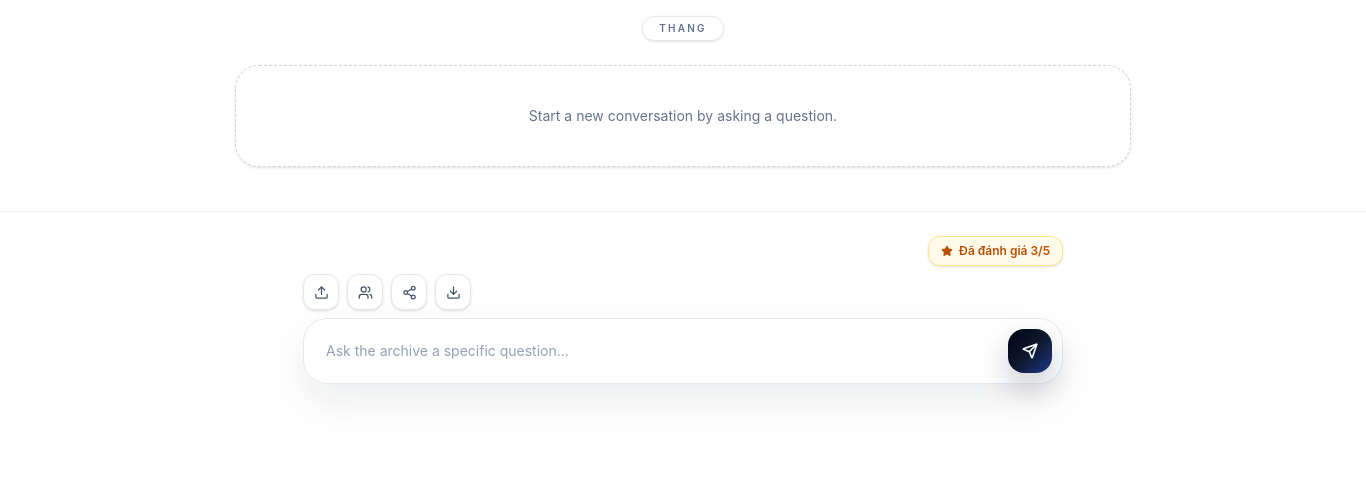
Scenario: ChatPanel conversation evaluation › lets the user reopen and update an existing evaluation
Click the button "Đã đánh giá 3/5" at (995, 251), box [928,236,1063,266]
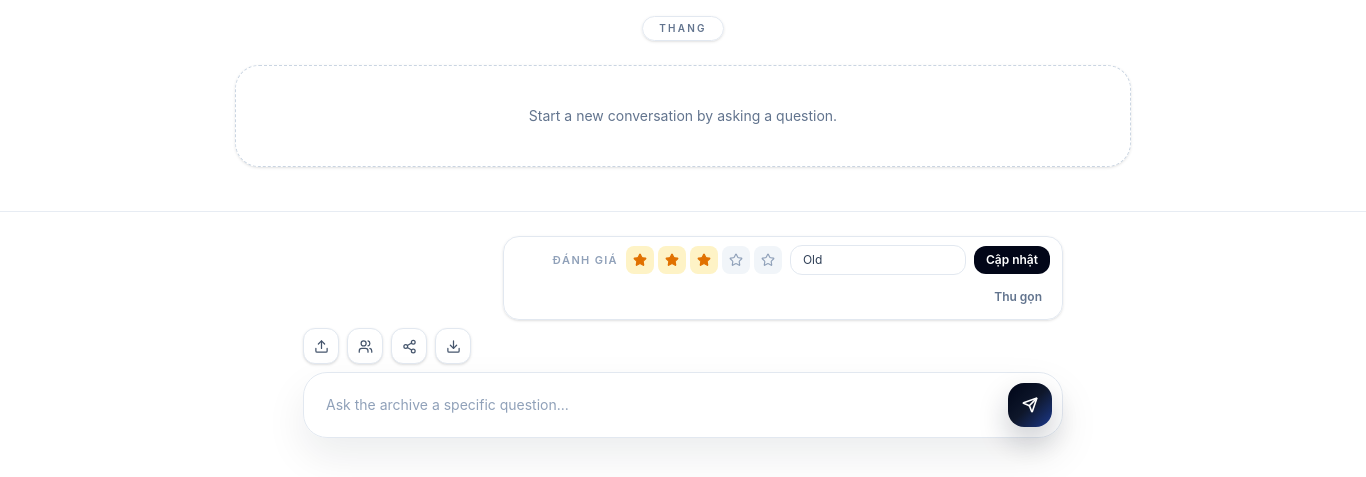
Click the button named "Đánh giá 4 sao" at (736, 260), box [722,246,750,274]
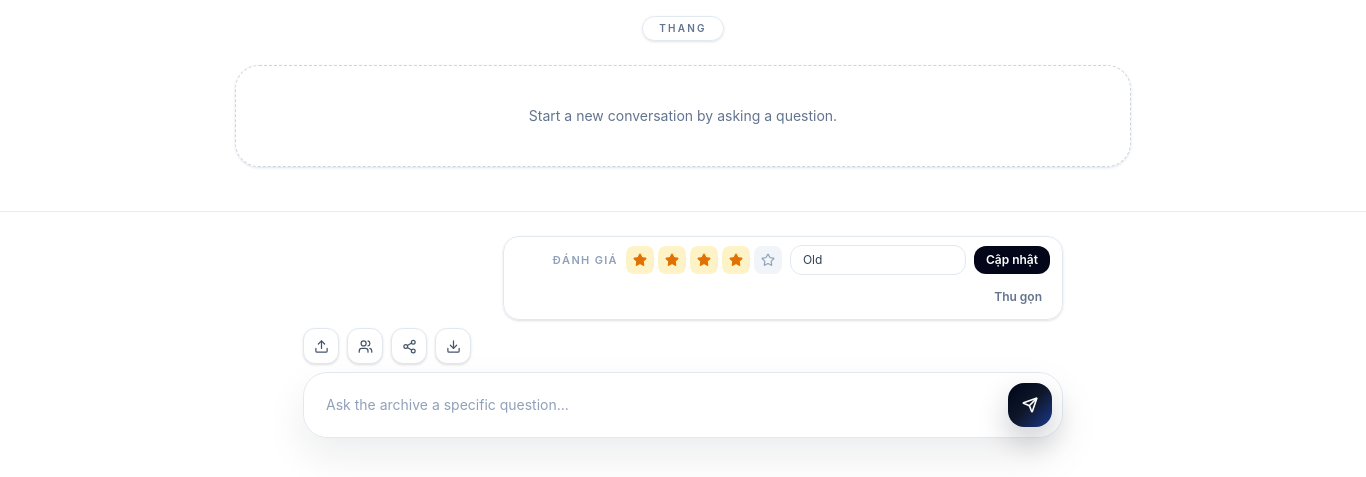
Replace the text in the field with placeholder "Nhận xét ngắn..." with "Better" at (878, 260), box [790,245,966,275]
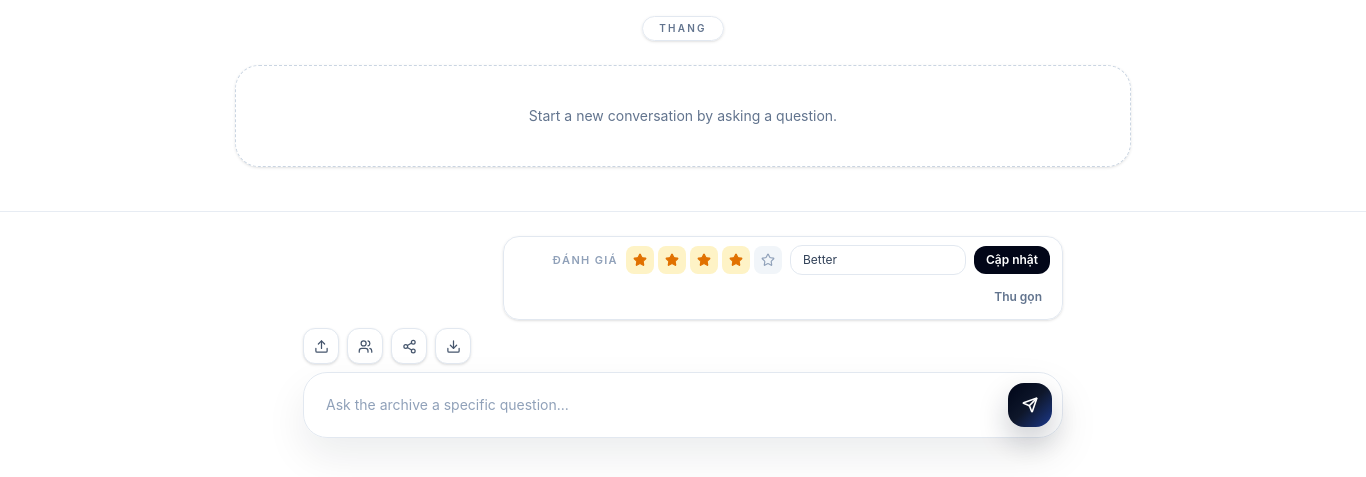
Click the button "Cập nhật" at (1012, 260), box [974,246,1050,274]
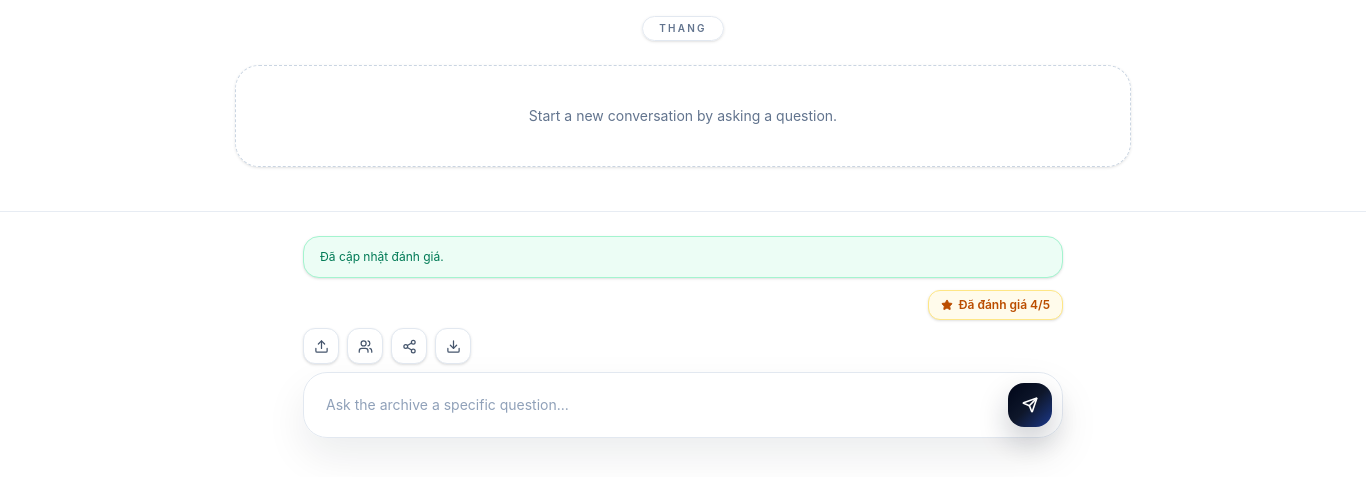
Check: the text "Đã cập nhật đánh giá." is shown, box [320,249,444,265]
